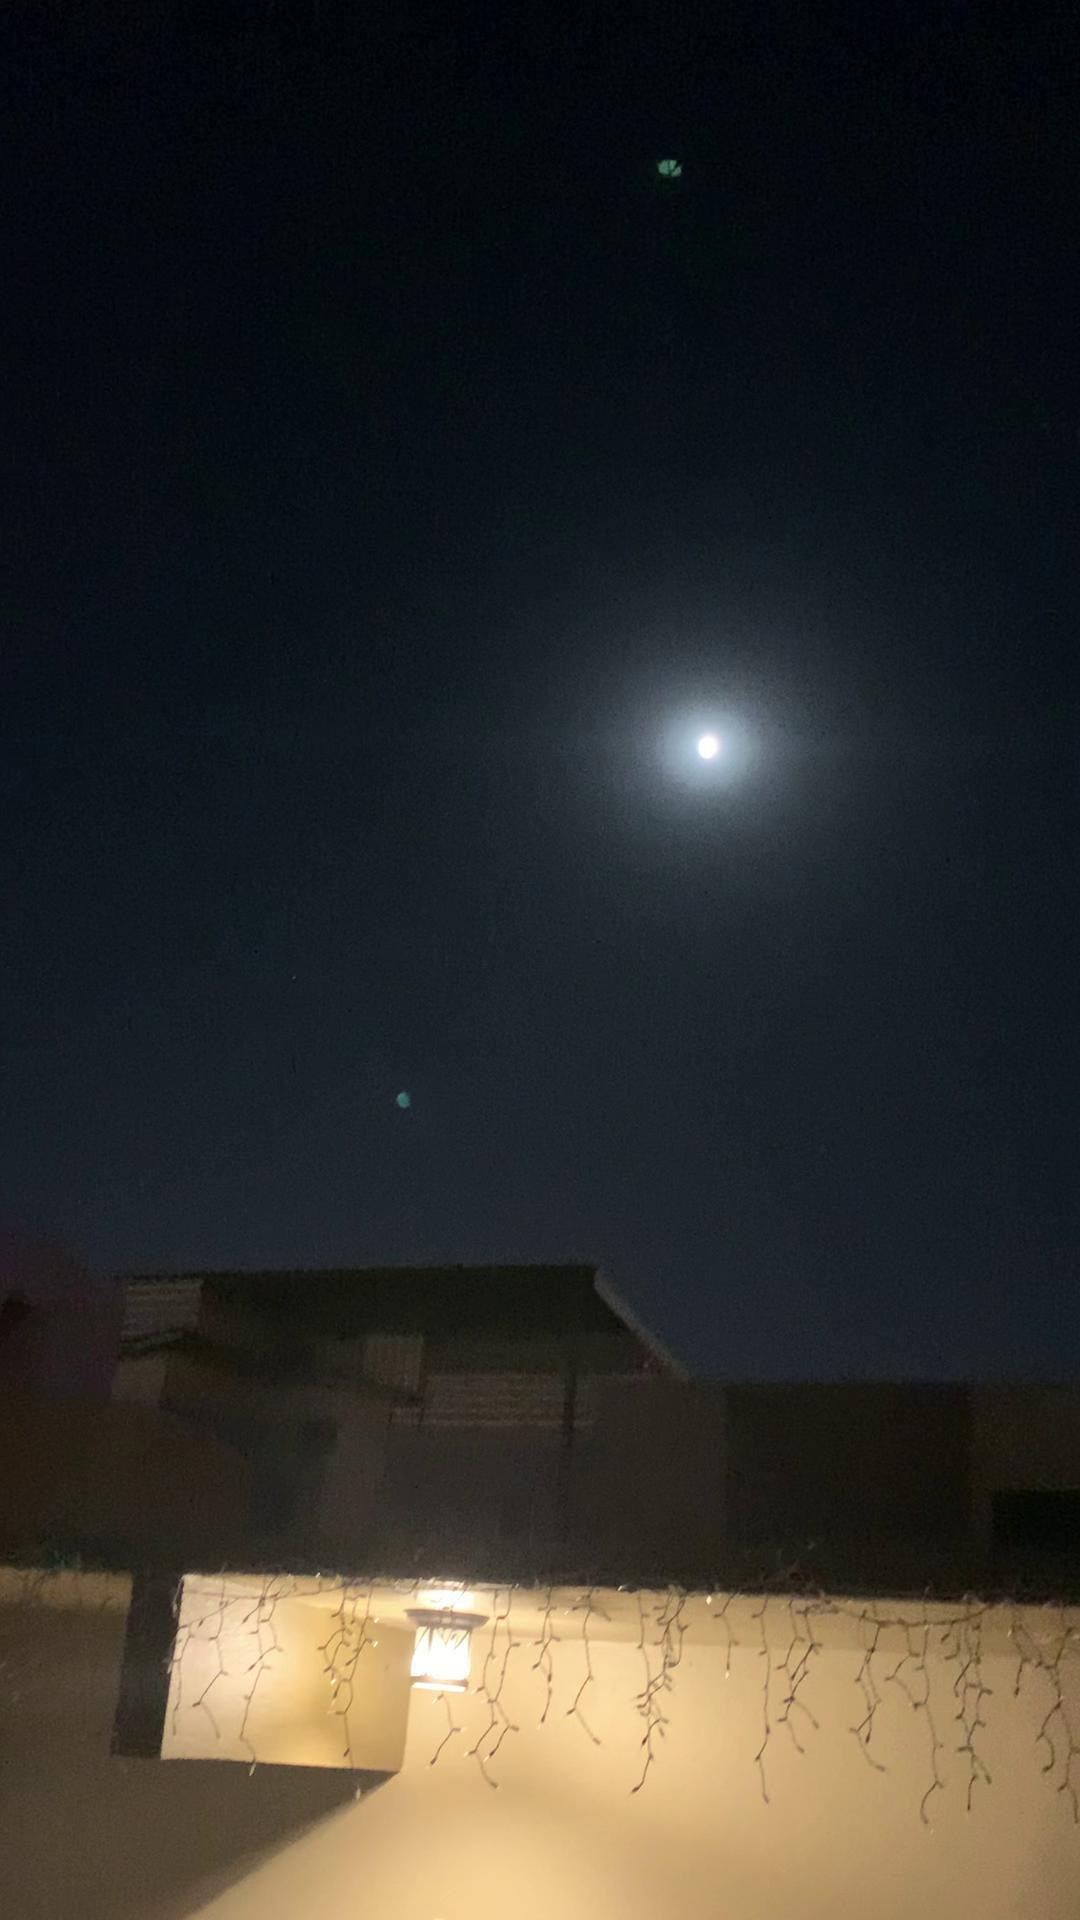moon: (662, 709, 749, 789)
